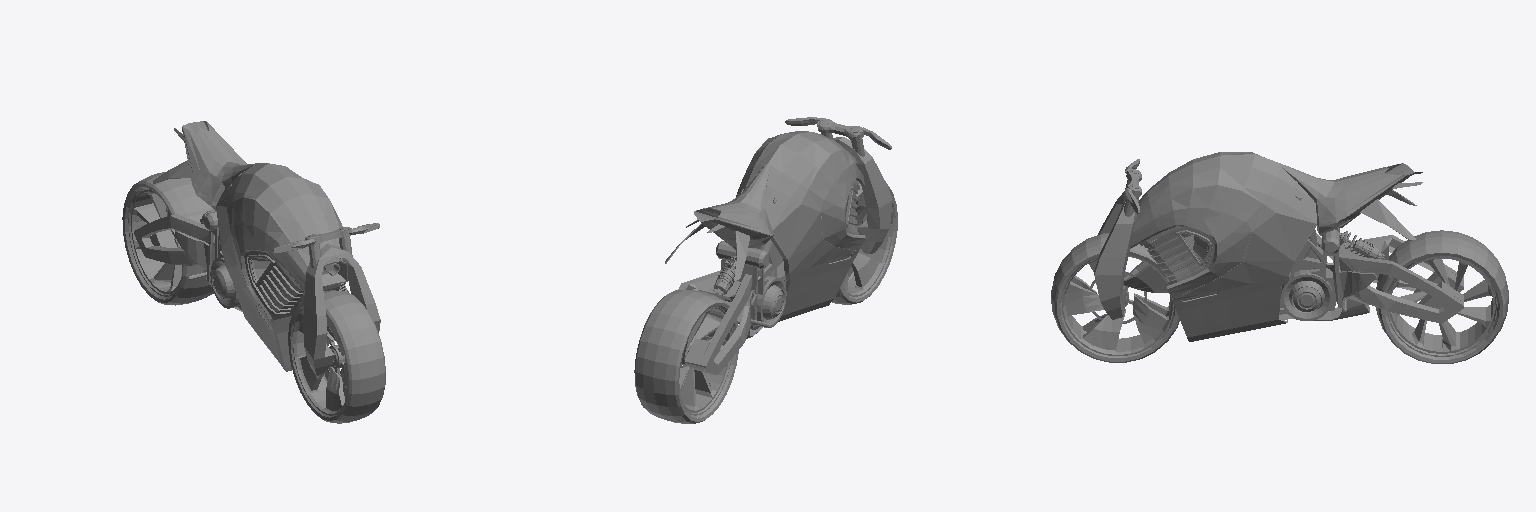
Rendered from Buell1.obj.
The picture shows the model from 3 angles: view 1: azimuth 30°, elevation 25°; view 2: azimuth 150°, elevation 25°; view 3: azimuth 270°, elevation 25°; orthographic projection.
Visible parts, largest first — view 1: Fairing, FrontTire, Steering, RearSwingarm, Saddle, BackTire, SidePlates, FrontWheel, RearWheel, Engine; view 2: Fairing, BackTire, RearSwingarm, Saddle, Steering, RearWheel, FrontWheel, Engine, FrontTire, Tail, SidePlates; view 3: Fairing, RearSwingarm, FrontWheel, BackTire, Saddle, RearWheel, Steering, FrontTire, SidePlates, Engine, Tail, RearShockABS.
Boxes of the visible parts, box(x1,y1,x2,y2) form: Fairing: box(216, 163, 348, 371); FrontTire: box(288, 290, 385, 423); Steering: box(273, 223, 380, 375); RearSwingarm: box(134, 213, 242, 311); Saddle: box(182, 121, 253, 230); BackTire: box(122, 172, 214, 305); SidePlates: box(244, 251, 346, 367); FrontWheel: box(293, 308, 347, 415); RearWheel: box(128, 189, 181, 296); Engine: box(210, 228, 271, 325); Fairing: box(736, 131, 865, 321); BackTire: box(634, 290, 738, 423); RearSwingarm: box(678, 239, 782, 374); Saddle: box(694, 164, 773, 268); Steering: box(785, 117, 892, 253); RearWheel: box(679, 307, 732, 415); FrontWheel: box(841, 194, 893, 296); Engine: box(725, 228, 786, 329); FrontTire: box(832, 183, 897, 304); Tail: box(665, 219, 749, 280); SidePlates: box(821, 181, 859, 263); Fairing: box(1130, 152, 1316, 341); RearSwingarm: box(1279, 233, 1463, 323); FrontWheel: box(1062, 256, 1173, 355); BackTire: box(1376, 230, 1508, 363); Saddle: box(1281, 163, 1414, 253); RearWheel: box(1387, 256, 1497, 356); Steering: box(1094, 159, 1141, 319); FrontTire: box(1051, 233, 1183, 362); SidePlates: box(1140, 226, 1214, 293); Engine: box(1279, 229, 1340, 320); Tail: box(1360, 172, 1422, 240); RearShockABS: box(1339, 231, 1384, 259).
Size of the model in its own units: 1.6 by 2.91 by 5.94.